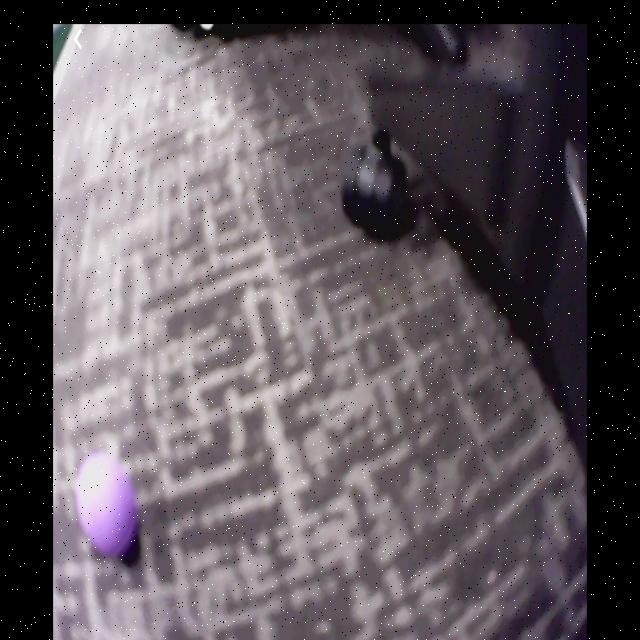ball: (79, 454, 139, 559)
